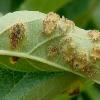Apple rust leaf: (1, 9, 99, 90)
